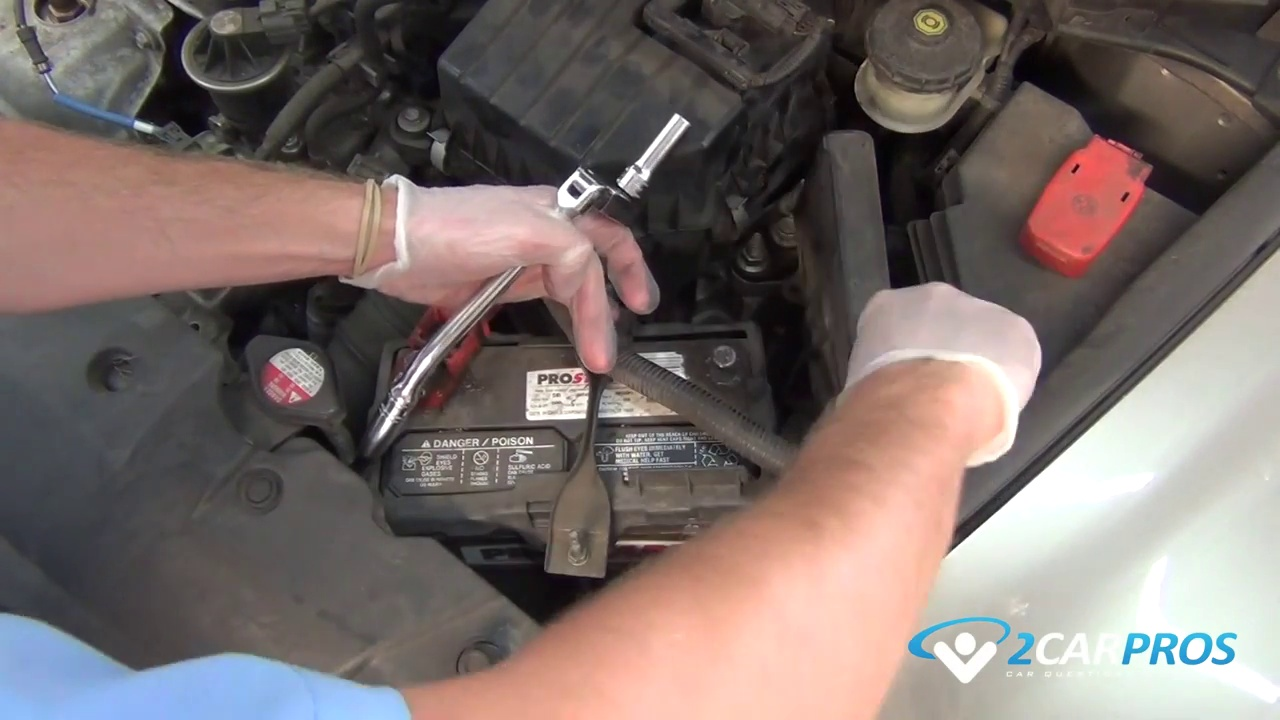battery: (379, 322, 770, 529)
neg_disconnected: (685, 329, 757, 401)
pos_touched: (385, 235, 491, 425)
